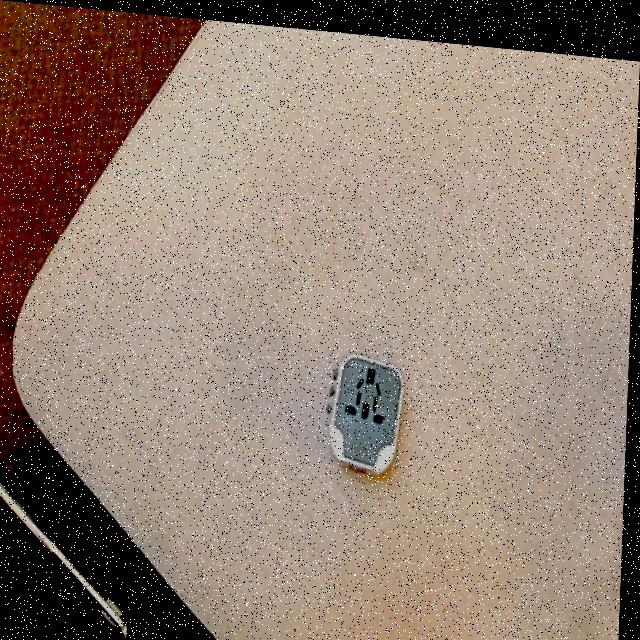adapter: (327, 342, 408, 469)
